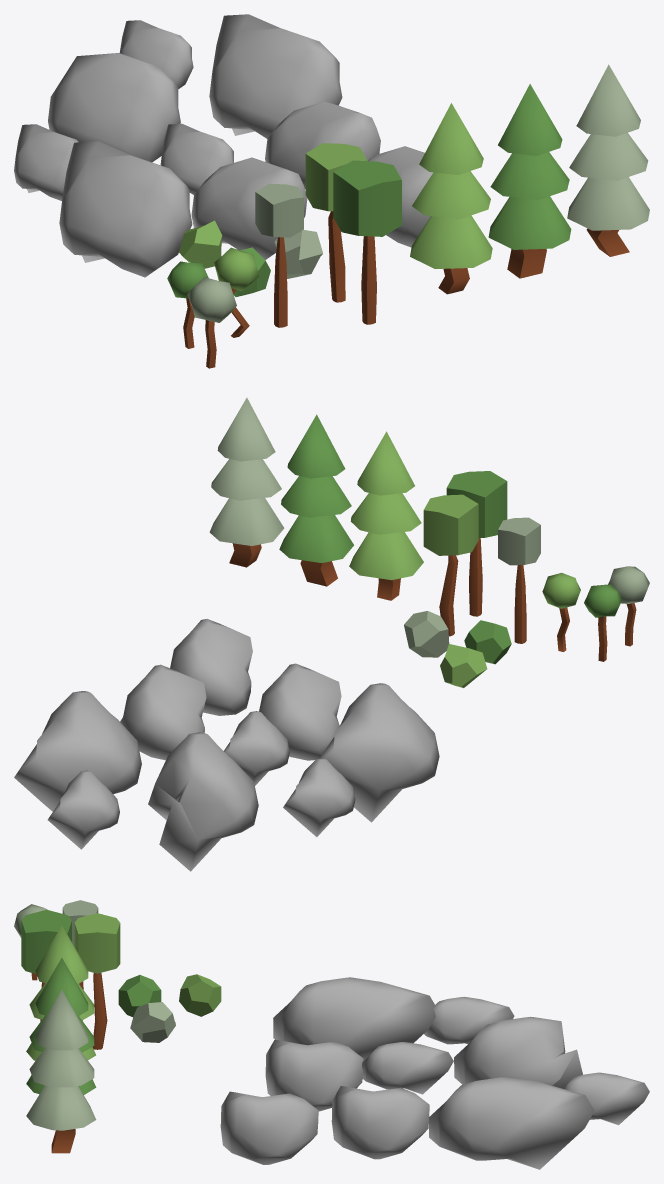
File: Items.fbx
3 renders of one model, top to bottom at view 1: azimuth 30°, elevation 25°; view 2: azimuth 150°, elevation 25°; view 3: azimuth 270°, elevation 25°, orthographic. The views are drawn at different scales.
Parts seen in each view (by area): view 1: pPlatonic4, pPlatonic10, pPlatonic5, Tree_02, Tree_03, Tree_01, Tree_04, pPlatonic2, pPlatonic8, Tree_05, Tree_07, pPlatonic7 (+9 smaller); view 2: pPlatonic4, pPlatonic5, pPlatonic10, Tree_02, Tree_03, Tree_01, pPlatonic8, pPlatonic2, pPlatonic6, Tree_05, Tree_04, pPlatonic9 (+9 smaller); view 3: pPlatonic10, pPlatonic4, Tree_03, pPlatonic5, pPlatonic6, pPlatonic8, pPlatonic2, pPlatonic3, Tree_05, pPlatonic7, pPlatonic9, Tree_02 (+6 smaller).
Part boxes in pixels (left/top/right/bottom): pPlatonic4: left=59, top=141, right=192, bottom=277; pPlatonic10: left=209, top=14, right=342, bottom=138; pPlatonic5: left=48, top=53, right=180, bottom=162; Tree_02: left=488, top=84, right=571, bottom=278; Tree_03: left=567, top=64, right=649, bottom=256; Tree_01: left=410, top=103, right=492, bottom=294; Tree_04: left=333, top=160, right=401, bottom=324; pPlatonic2: left=191, top=157, right=307, bottom=259; pPlatonic8: left=265, top=101, right=380, bottom=189; Tree_05: left=305, top=143, right=367, bottom=302; Tree_07: left=255, top=183, right=303, bottom=327; pPlatonic7: left=14, top=124, right=78, bottom=200; pPlatonic4: left=319, top=683, right=439, bottom=822; pPlatonic5: left=148, top=732, right=258, bottom=871; pPlatonic10: left=14, top=691, right=141, bottom=811; Tree_02: left=279, top=414, right=353, bottom=586; Tree_03: left=209, top=397, right=284, bottom=567; Tree_01: left=349, top=431, right=423, bottom=600; pPlatonic8: left=120, top=664, right=206, bottom=760; pPlatonic2: left=259, top=663, right=341, bottom=760; pPlatonic6: left=170, top=619, right=252, bottom=715; Tree_05: left=423, top=494, right=478, bottom=636; Tree_04: left=446, top=471, right=507, bottom=616; pPlatonic9: left=47, top=770, right=119, bottom=849; pPlatonic10: left=429, top=1077, right=594, bottom=1169; pPlatonic4: left=273, top=977, right=435, bottom=1060; Tree_03: left=26, top=990, right=96, bottom=1153; pPlatonic5: left=454, top=1016, right=582, bottom=1088; pPlatonic6: left=220, top=1091, right=318, bottom=1164; pPlatonic8: left=331, top=1086, right=429, bottom=1159; pPlatonic2: left=265, top=1039, right=363, bottom=1111; pPlatonic3: left=362, top=1042, right=453, bottom=1094; Tree_05: left=74, top=913, right=120, bottom=1049; pPlatonic7: left=424, top=997, right=514, bottom=1044; pPlatonic9: left=563, top=1072, right=649, bottom=1125; Tree_02: left=26, top=957, right=96, bottom=1094.
Bounding box in the file's own units: 54.79 × 28.69 × 76.25.
